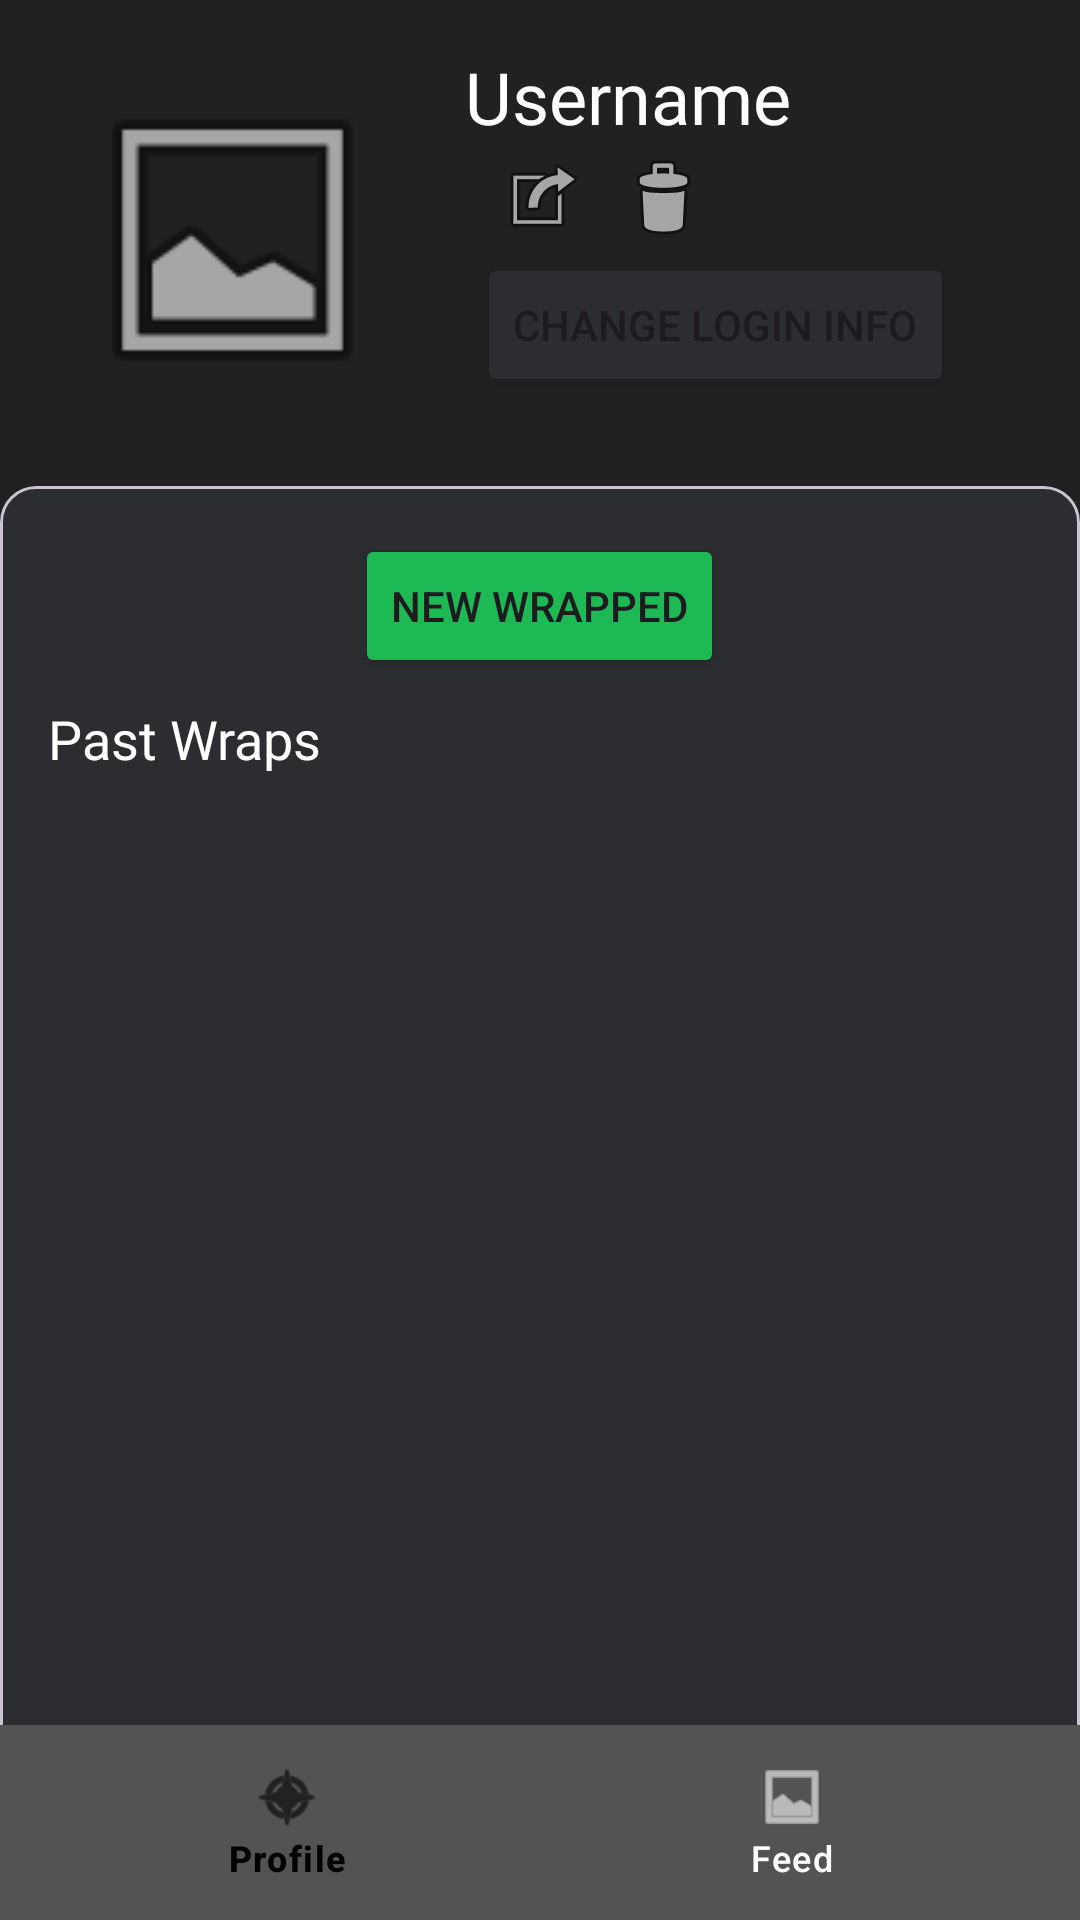

Icons on this 1080*1920 Android screen, each with the point to tap as [x,y]:
delete: [663,197]
set as: [543,196]
